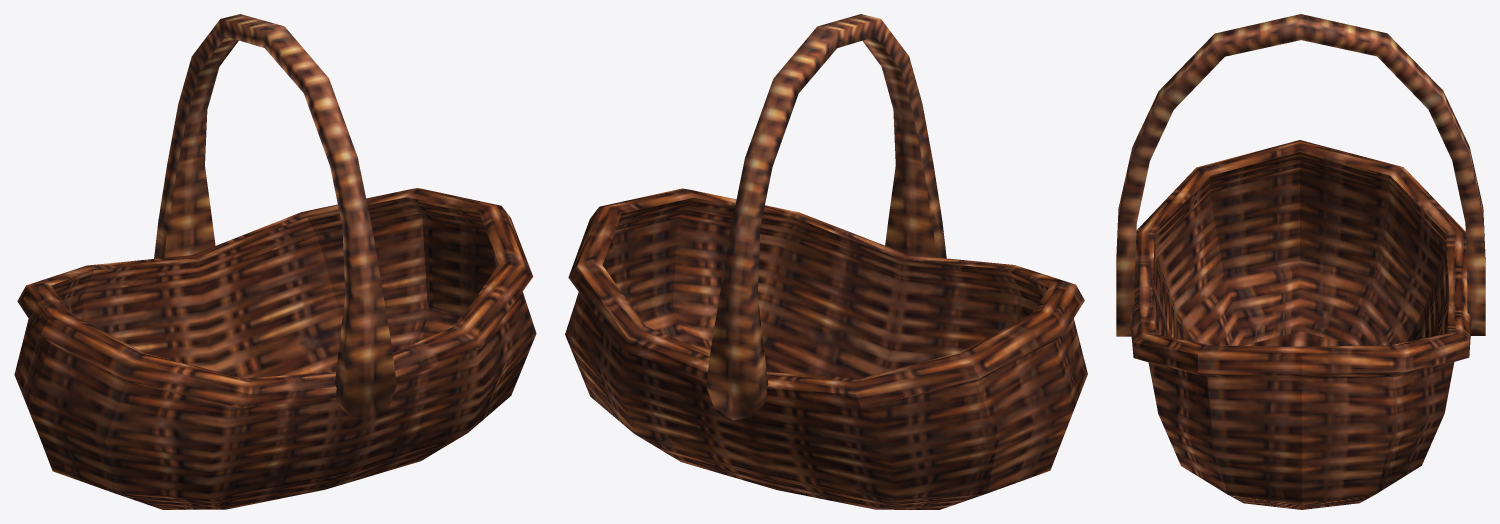
Rendered from PicnicBasket_Small_Ground.fbx.
The picture shows the model from 3 angles, left to right: view 1: azimuth 30°, elevation 25°; view 2: azimuth 150°, elevation 25°; view 3: azimuth 270°, elevation 25°; orthographic projection. The views are drawn at different scales.
Parts seen in each view (by area): view 1: PicnicBasket_Ground; view 2: PicnicBasket_Ground; view 3: PicnicBasket_Ground.
Part boxes in pixels (x1=…): PicnicBasket_Ground: x1=14, y1=14, x2=536, y2=509; PicnicBasket_Ground: x1=565, y1=14, x2=1087, y2=509; PicnicBasket_Ground: x1=1116, y1=14, x2=1485, y2=509.
Size of the model in its own units: 2.07 by 1.71 by 1.37.
